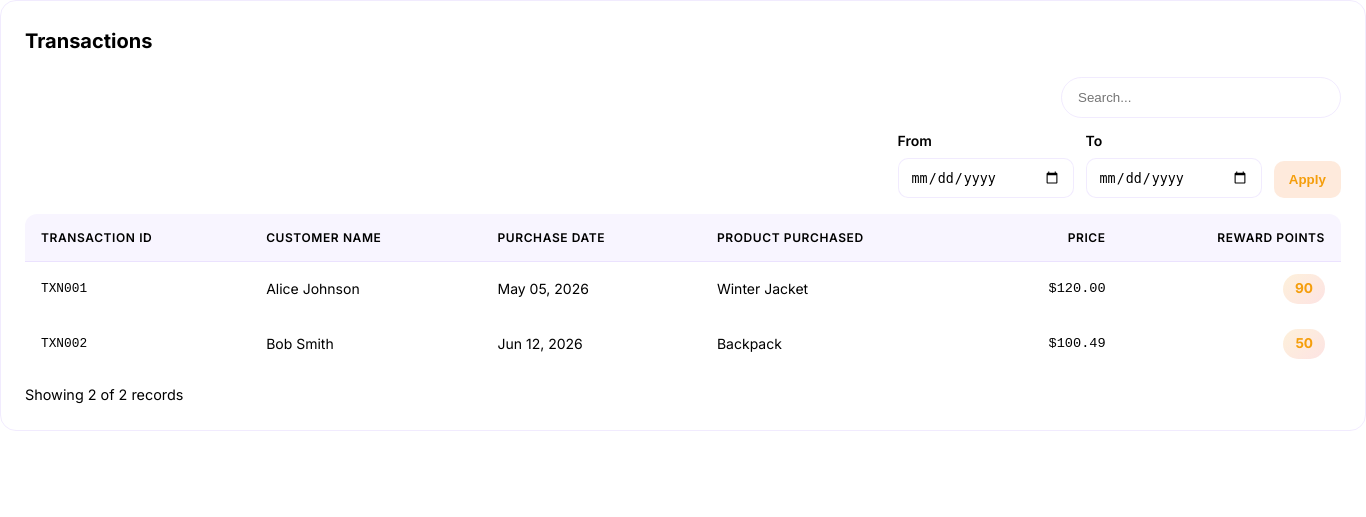
Test: TransactionsTable › shows validation message when the selected range exceeds three months
In the date field named "from date": [986, 178] box [898, 158, 1074, 198], type "2026-03-01"
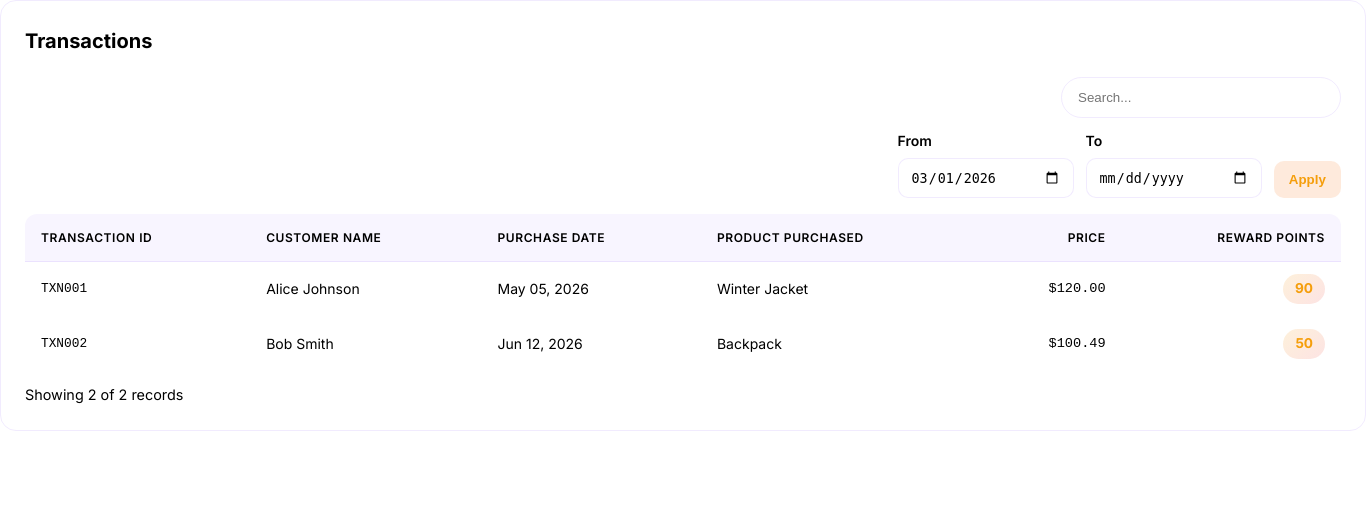
In the date field named "to date": [1174, 178] box [1086, 158, 1262, 198], type "2026-06-15"
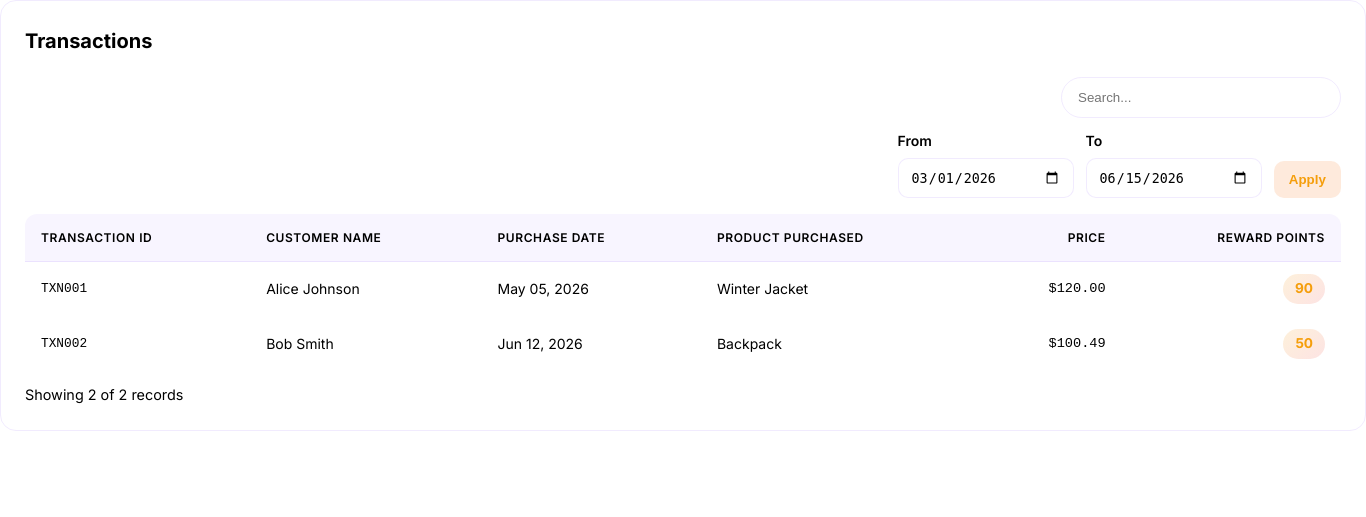
Click the button "Apply": [1307, 179] box [1274, 161, 1341, 198]
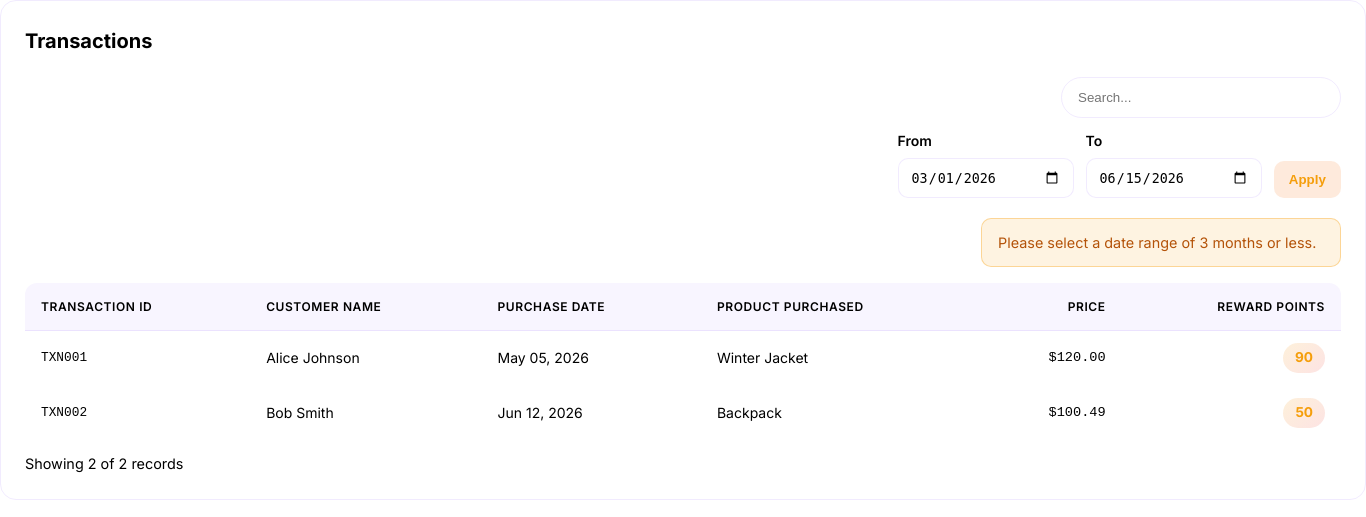
Expected: the text "TXN001" is shown, [25, 331, 250, 386]
Now the text "Please select a date range of 3 months or less." is shown, box [981, 218, 1341, 267]
